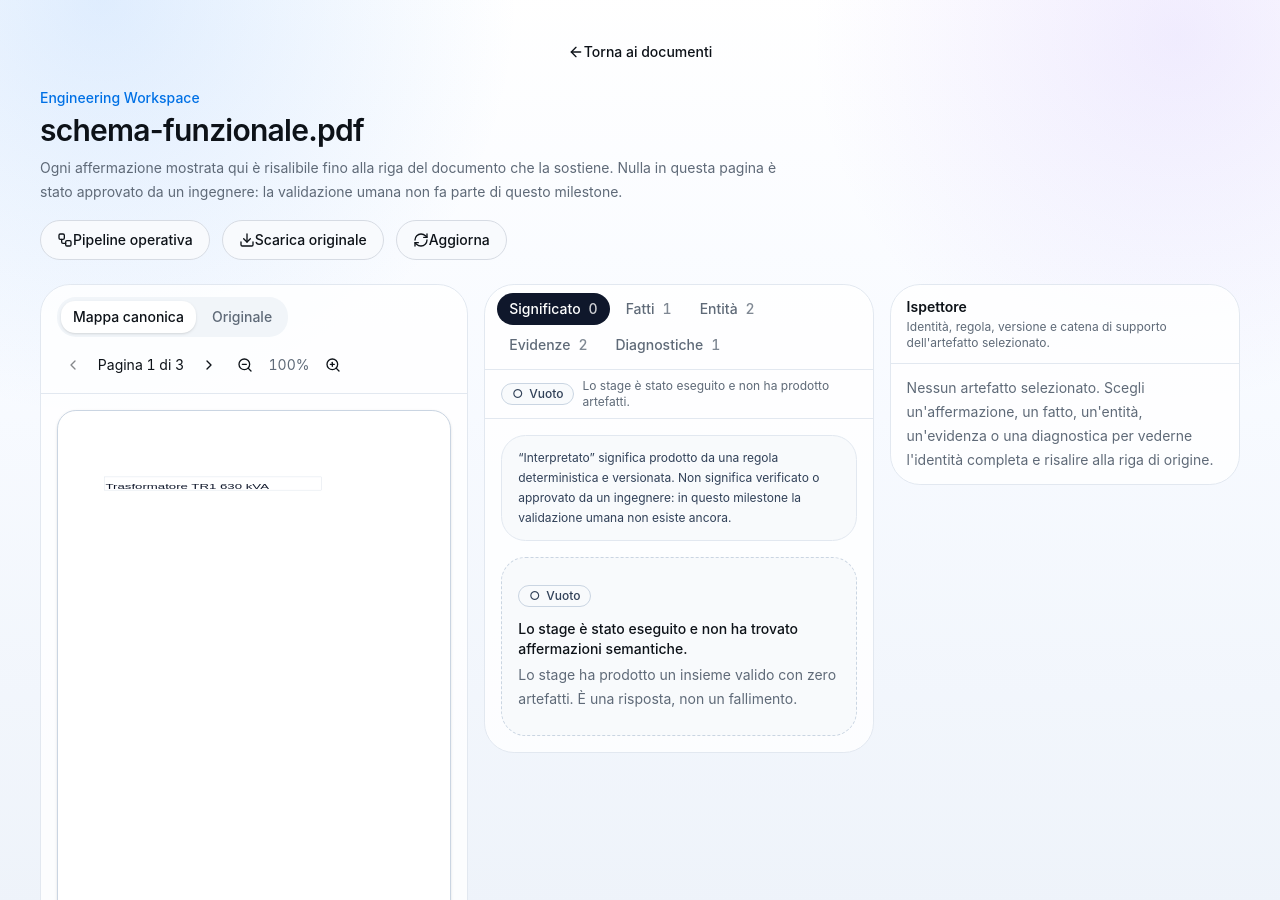
Test: declined, empty, unrun and failed › keeps diagnostics visible when no statement was produced
The width and height of the screenshot is (1280, 900).
Expected: the heading "schema-funzionale.pdf" is shown, [40,112,364,148]
Click the tab "Diagnostiche 1" at (668, 345), box [604,329,732,361]
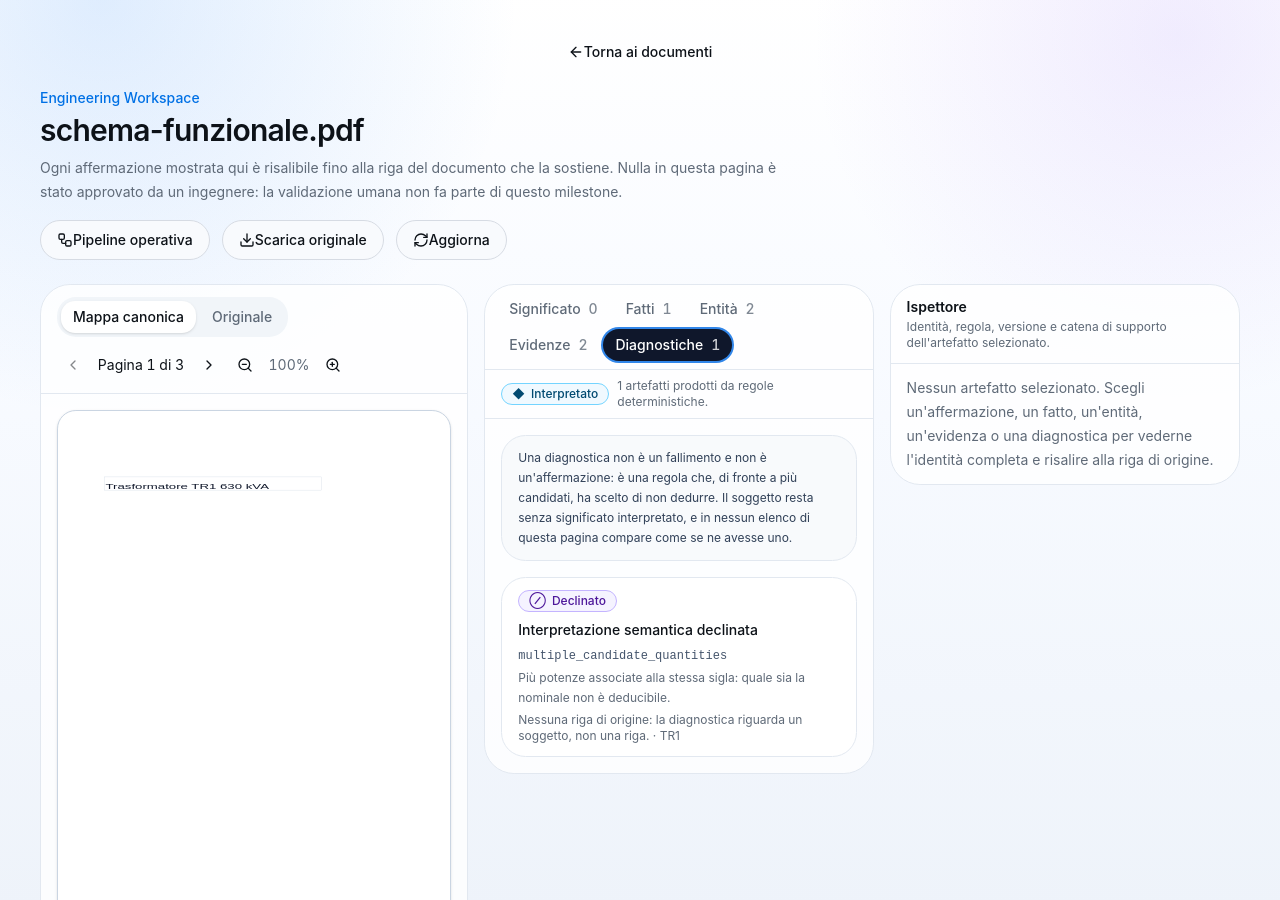
Expected: the text "Interpretazione semantica declinata" is shown, [518,620,758,640]
Expected: the text "Più potenze associate alla stessa sigla" is shown, [518,670,805,705]
